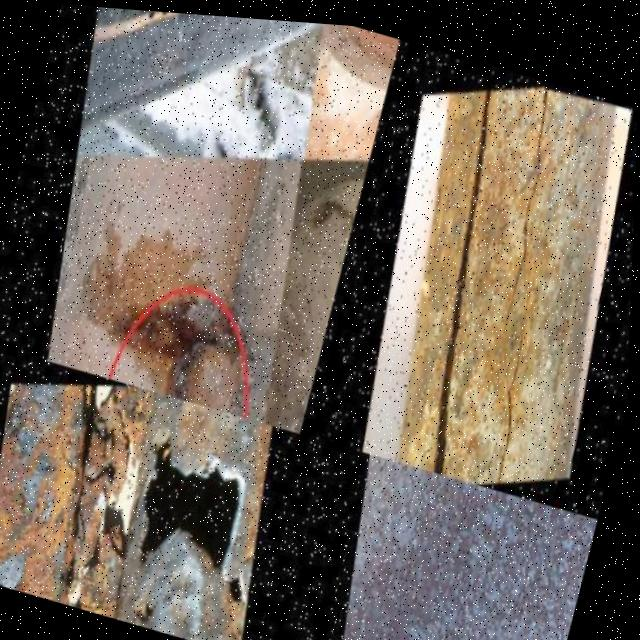crack: (390, 64, 546, 474), (477, 74, 574, 338), (37, 380, 148, 601), (478, 275, 561, 482), (165, 316, 218, 399), (103, 8, 185, 34)
hole: (122, 394, 280, 588), (220, 557, 258, 607), (135, 579, 170, 625), (162, 392, 201, 411)
